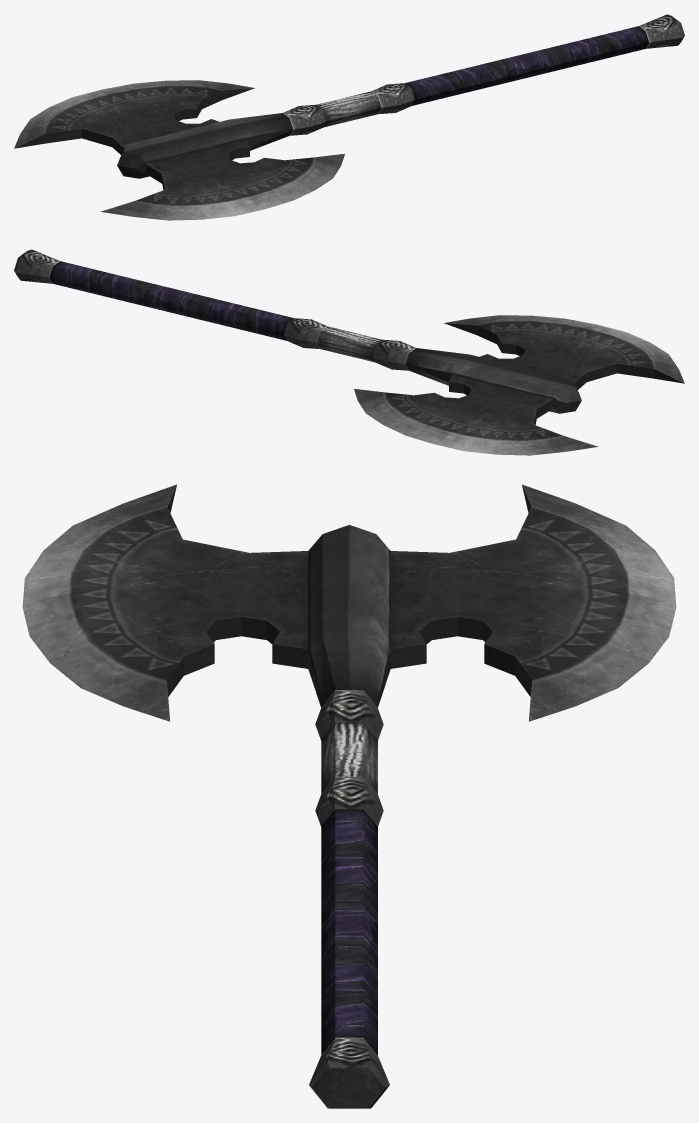
3 views of the same model, one above another, from view 1: azimuth 30°, elevation 25°; view 2: azimuth 150°, elevation 25°; view 3: azimuth 270°, elevation 25° (orthographic). The views are drawn at different scales.
Parts seen in each view (by area): view 1: KM_NEW_AX_01; view 2: KM_NEW_AX_01; view 3: KM_NEW_AX_01.
Part boxes in pixels (x1,y1,x2,y2): KM_NEW_AX_01: (14, 14, 684, 220); KM_NEW_AX_01: (14, 249, 684, 455); KM_NEW_AX_01: (22, 484, 676, 1108).
Bounding box in the file's own units: 1.24 × 0.0465 × 0.5677.
Materials: 2 (2 with a texture image).
